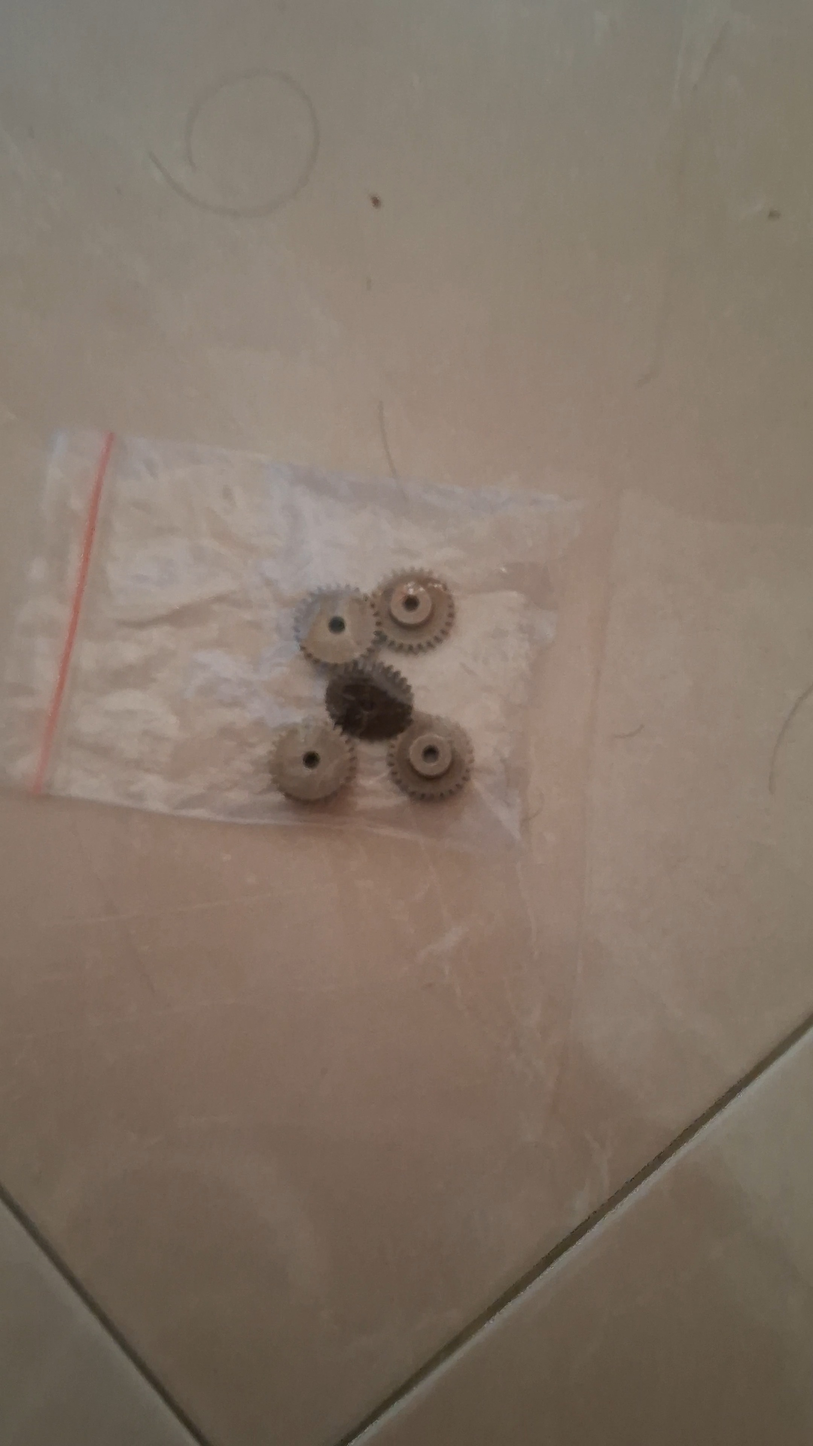spur gear: (388, 715, 473, 800), (270, 719, 355, 802), (325, 662, 412, 740), (294, 587, 378, 667), (373, 571, 454, 653)
